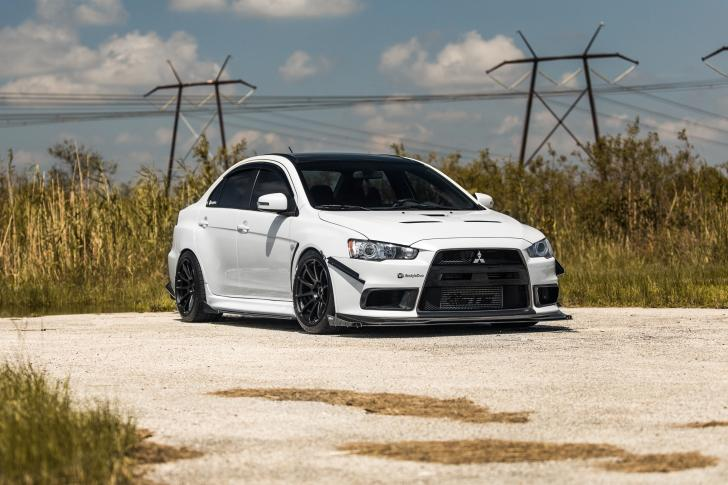Mitsubishi: (466, 245, 500, 270)
